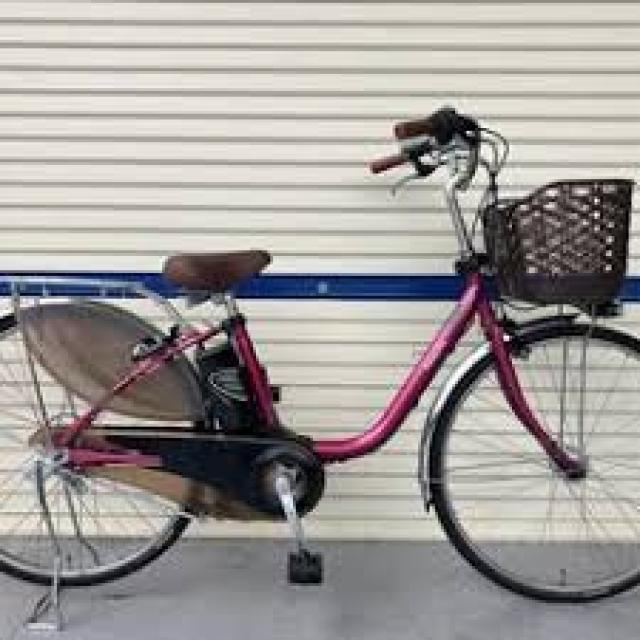basket: (481, 178, 624, 306)
